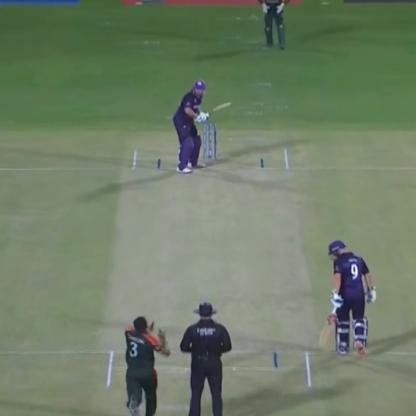bat: (314, 302, 344, 357), (199, 98, 236, 120)
pitch: (99, 142, 320, 400)
